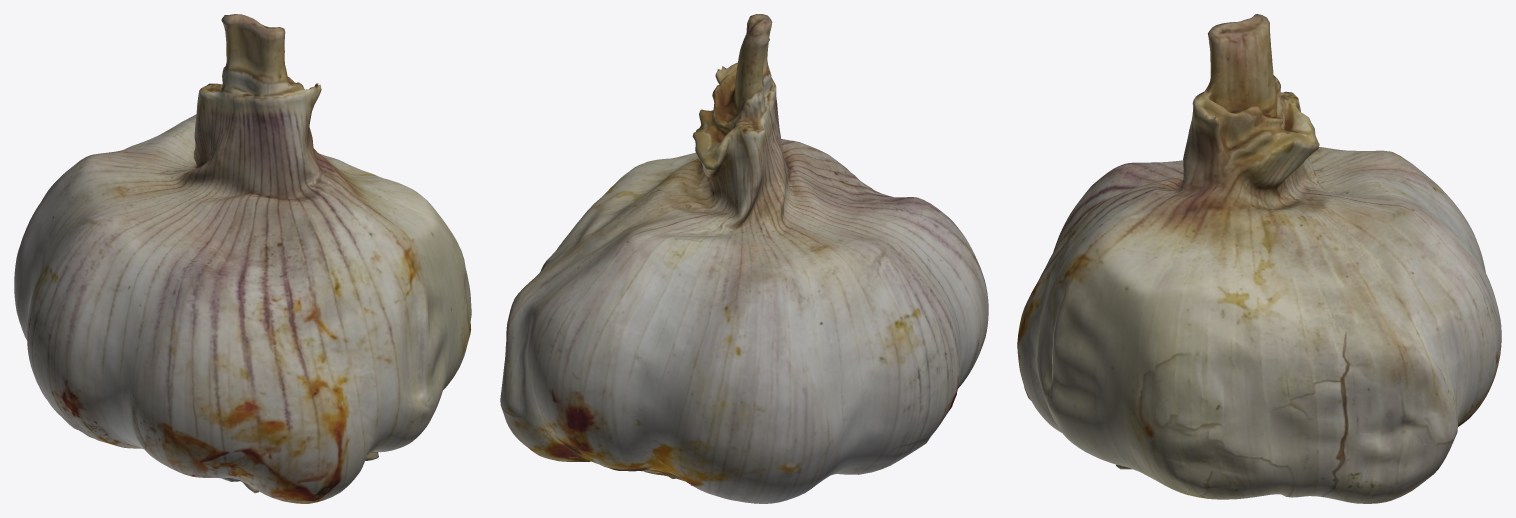
The picture shows the model from 3 angles, left to right: view 1: azimuth 30°, elevation 25°; view 2: azimuth 150°, elevation 25°; view 3: azimuth 270°, elevation 25°; orthographic projection.
Parts seen in each view (by area): view 1: Retopo_3DModel; view 2: Retopo_3DModel; view 3: Retopo_3DModel.
Boxes of the visible parts, left/top/right/bottom form: Retopo_3DModel: left=14, top=14, right=471, bottom=503; Retopo_3DModel: left=500, top=14, right=988, bottom=503; Retopo_3DModel: left=1017, top=14, right=1501, bottom=503.
Bounding box in the file's own units: 0.1467 × 0.1544 × 0.1586.
Materials: 1 (1 with a texture image).
